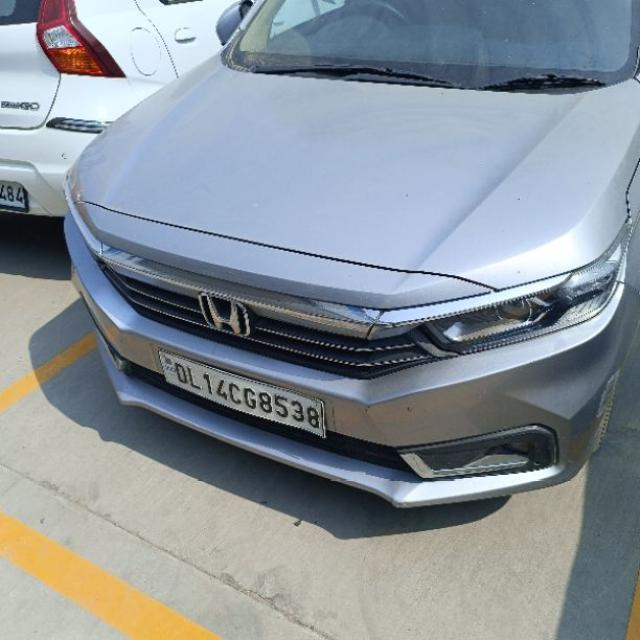license_plate: (154, 346, 327, 440)
